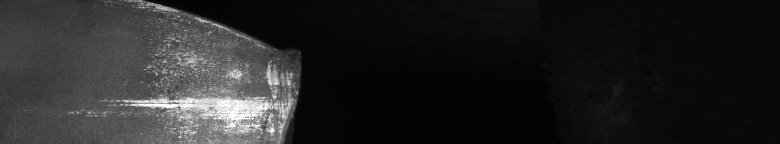kb: (68, 0, 305, 144)
